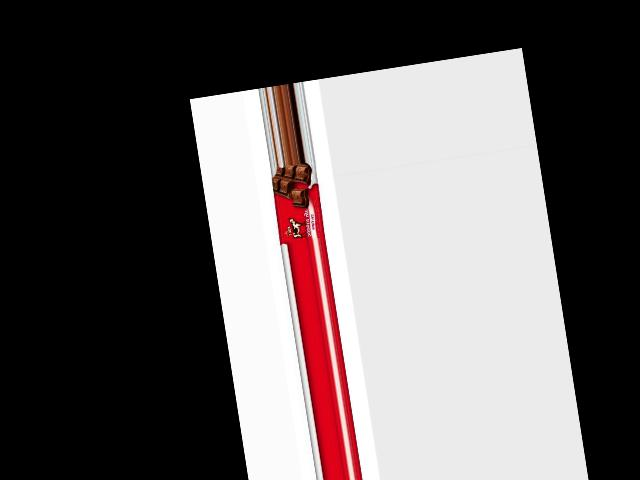chocolate: (269, 162, 326, 246)
